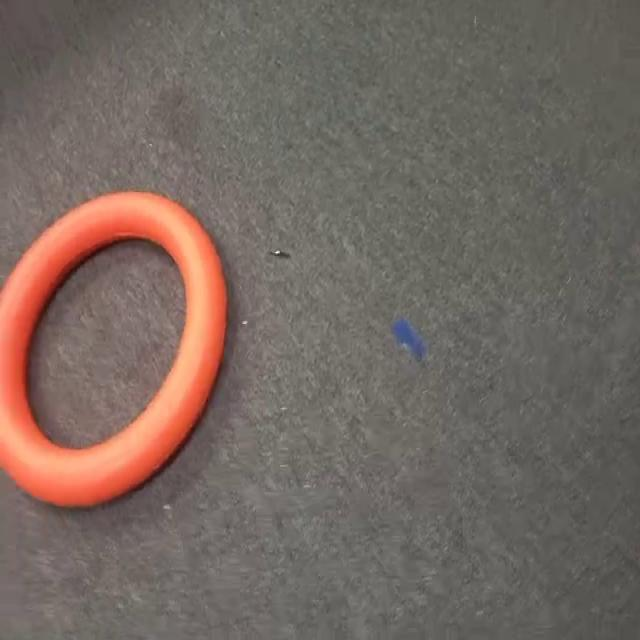note: (1, 180, 240, 522)
